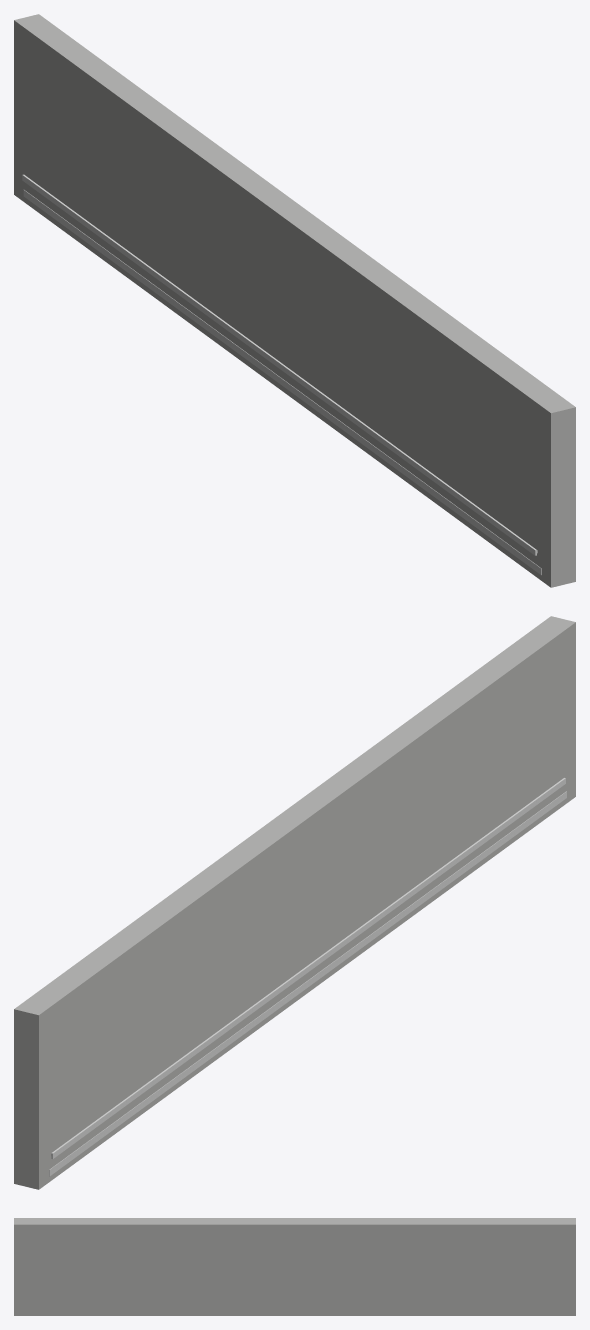
Rendered from Right_Wall.obj.
3 views of the same model, one above another, from view 1: azimuth 30°, elevation 25°; view 2: azimuth 150°, elevation 25°; view 3: azimuth 270°, elevation 25° (orthographic). The views are drawn at different scales.
Parts seen in each view (by area): view 1: Part4, Part2, Part1; view 2: Part4, Part2, Part1; view 3: Part4.
Boxes of the visible parts, box(x1,y1,x2,y2) form: Part4: box(14, 14, 575, 587); Part2: box(22, 174, 536, 555); Part1: box(23, 190, 541, 574); Part4: box(14, 616, 575, 1189); Part2: box(51, 778, 565, 1158); Part1: box(49, 791, 566, 1176); Part4: box(14, 1218, 575, 1315).
Bounding box in the file's own units: 4.07 × 24.43 × 136.
Materials: 3 (2 with a texture image).
